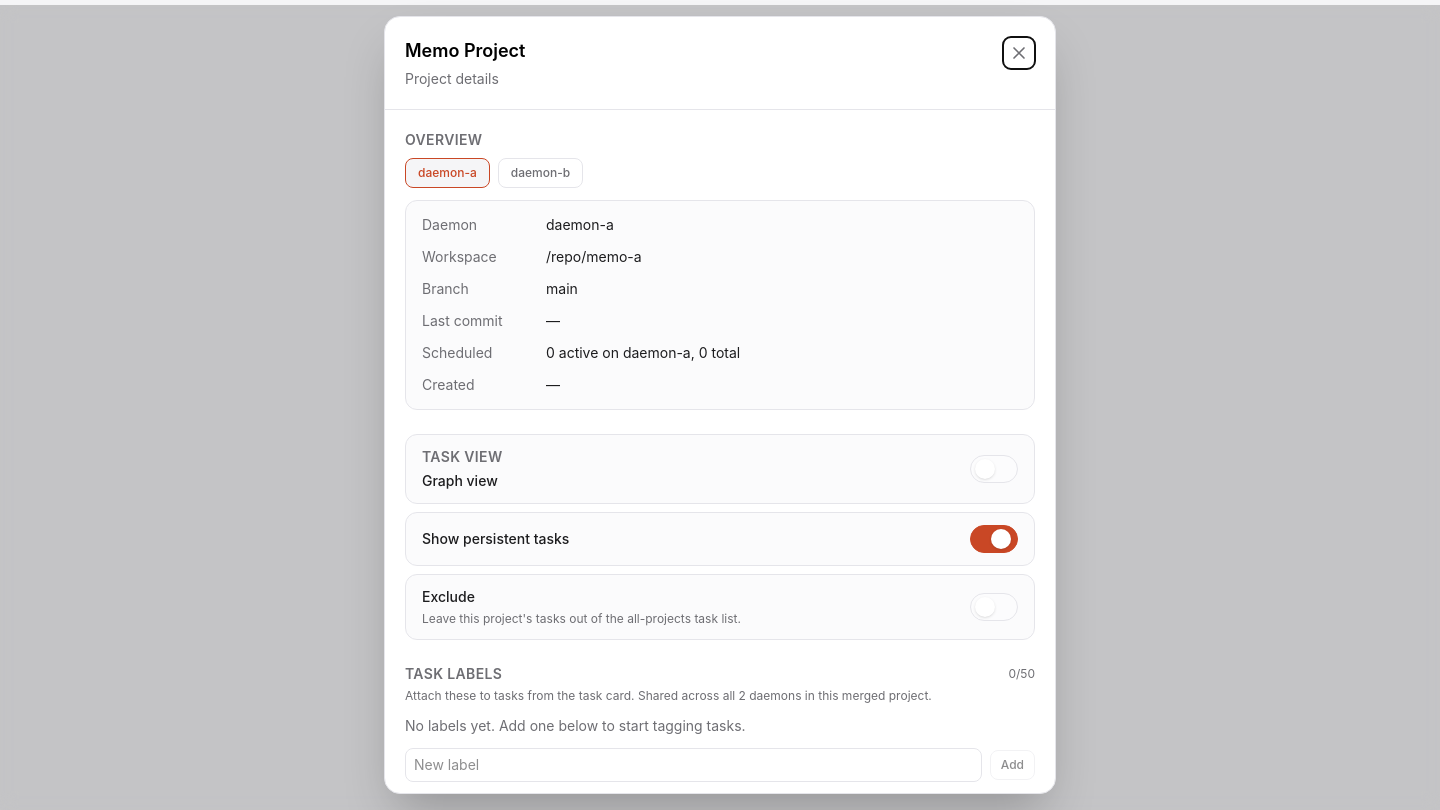
Scenario: ProjectDetailsDialog › shows merged project details as daemon tabs
Expected: the text "/repo/memo-a" is shown, [546,248,642,265]
Expected: the text "main" is shown, [546,280,578,297]
What coordinates should you click on to do the following:
click the tab "daemon-b"
I would click on:
 (540, 173)
Its box is [498,158,583,188].
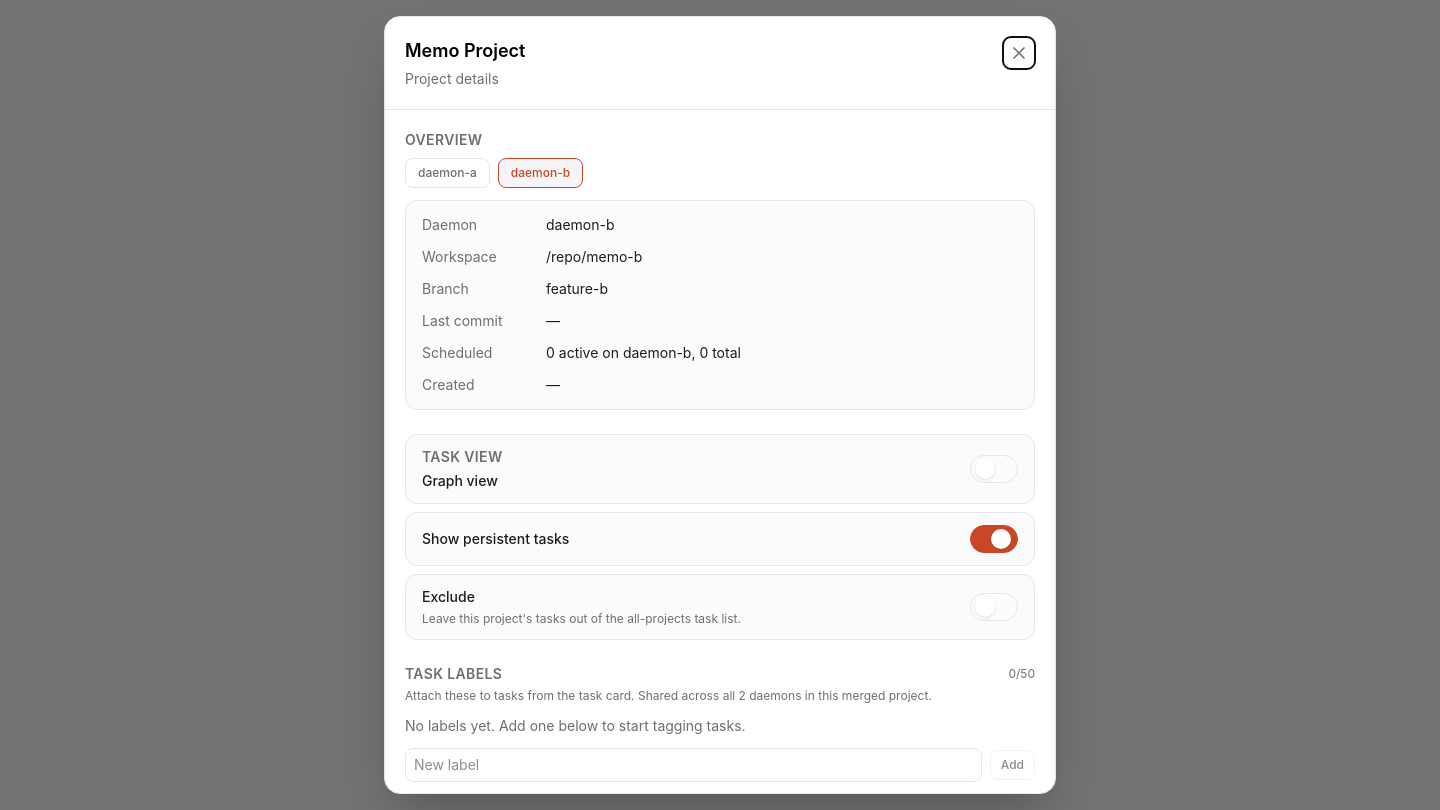
Result: the text "/repo/memo-b" is shown at [546,248,642,265]
Result: the text "feature-b" is shown at [546,280,608,297]
Result: the text "/repo/memo-a" is gone
